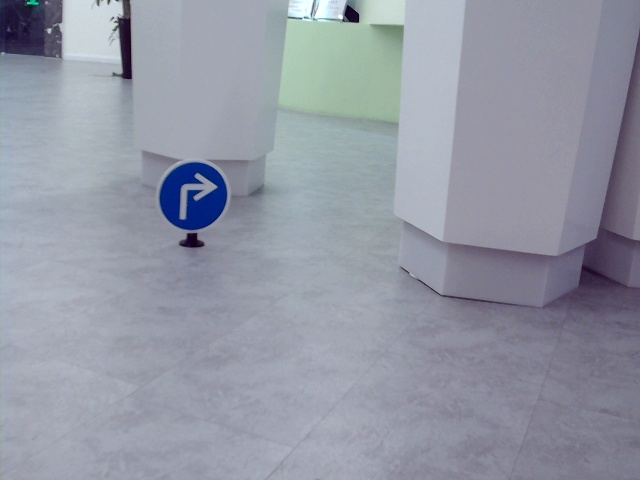turn_right: (174, 169, 219, 223)
